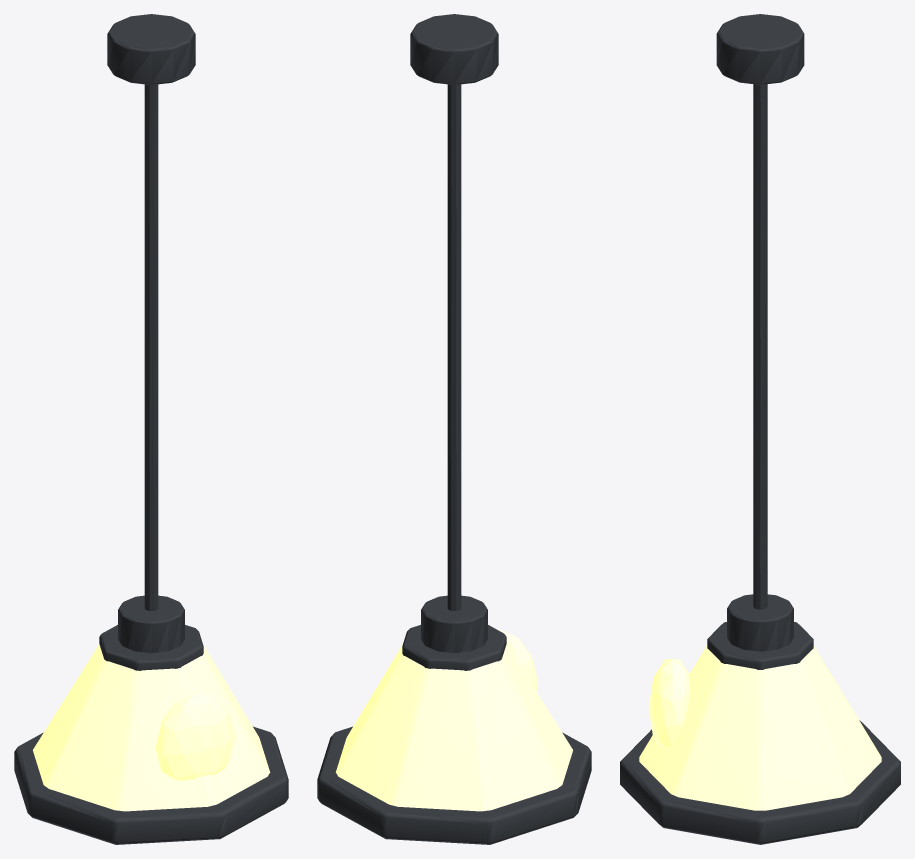
File: pendant_lamp_b.fbx
The picture shows the model from 3 angles, left to right: view 1: azimuth 30°, elevation 25°; view 2: azimuth 150°, elevation 25°; view 3: azimuth 270°, elevation 25°; orthographic projection.
Parts seen in each view (by area): view 1: pendant_lamp_B; view 2: pendant_lamp_B; view 3: pendant_lamp_B.
Part boxes in pixels (box(x1,y1,x2,y2)): pendant_lamp_B: box(14, 14, 288, 844); pendant_lamp_B: box(317, 14, 591, 844); pendant_lamp_B: box(620, 14, 900, 844).
Bounding box in the file's own units: 28.83 × 85.61 × 28.83.
